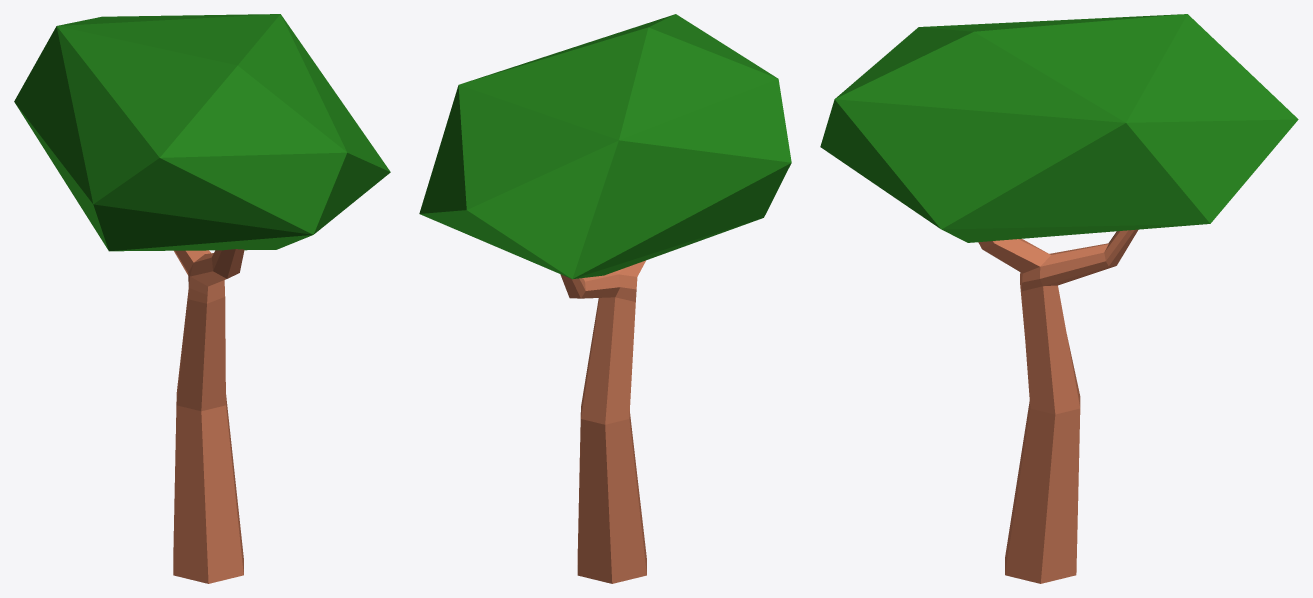
File: Tree_07_summer_mat.fbx
The picture shows the model from 3 angles, left to right: view 1: azimuth 30°, elevation 25°; view 2: azimuth 150°, elevation 25°; view 3: azimuth 270°, elevation 25°; orthographic projection. The views are drawn at different scales.
Parts seen in each view (by area): view 1: Tree_07_summer_mat; view 2: Tree_07_summer_mat; view 3: Tree_07_summer_mat.
Part boxes in pixels (bbox=[...]): Tree_07_summer_mat: bbox=[14, 14, 390, 583]; Tree_07_summer_mat: bbox=[419, 14, 791, 583]; Tree_07_summer_mat: bbox=[820, 14, 1298, 583].
Bounding box in the file's own units: 5.35 × 9.53 × 7.75.
